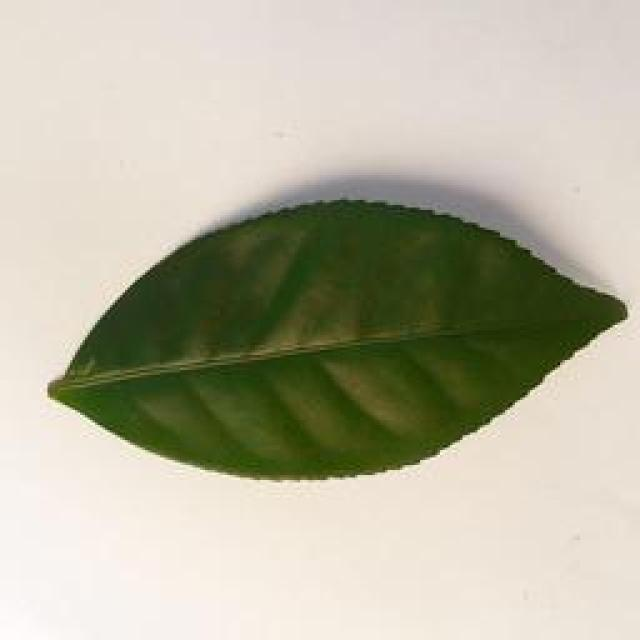Healthy: (49, 204, 619, 478)
